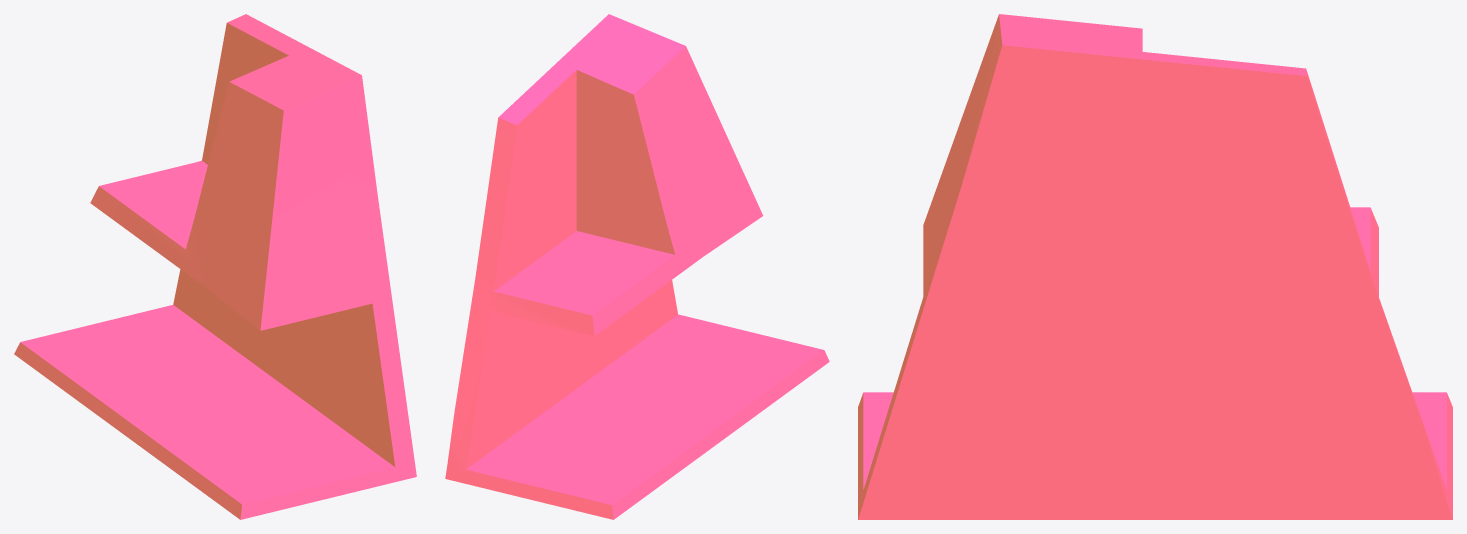
Rendered from chunk-e2.fbx.
The picture shows the model from 3 angles, left to right: view 1: azimuth 30°, elevation 25°; view 2: azimuth 150°, elevation 25°; view 3: azimuth 270°, elevation 25°; orthographic projection. The views are drawn at different scales.
Parts seen in each view (by area): view 1: polySurface3; view 2: polySurface3; view 3: polySurface3.
Boxes of the visible parts, bbox=[...] form: polySurface3: bbox=[14, 14, 416, 519]; polySurface3: bbox=[445, 14, 829, 519]; polySurface3: bbox=[858, 14, 1452, 519].
Size of the model in its own units: 4.5 by 8.81 by 10.
